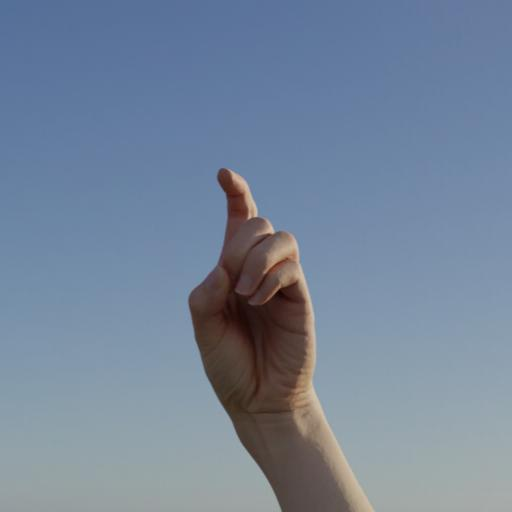X: (145, 110, 400, 512)
